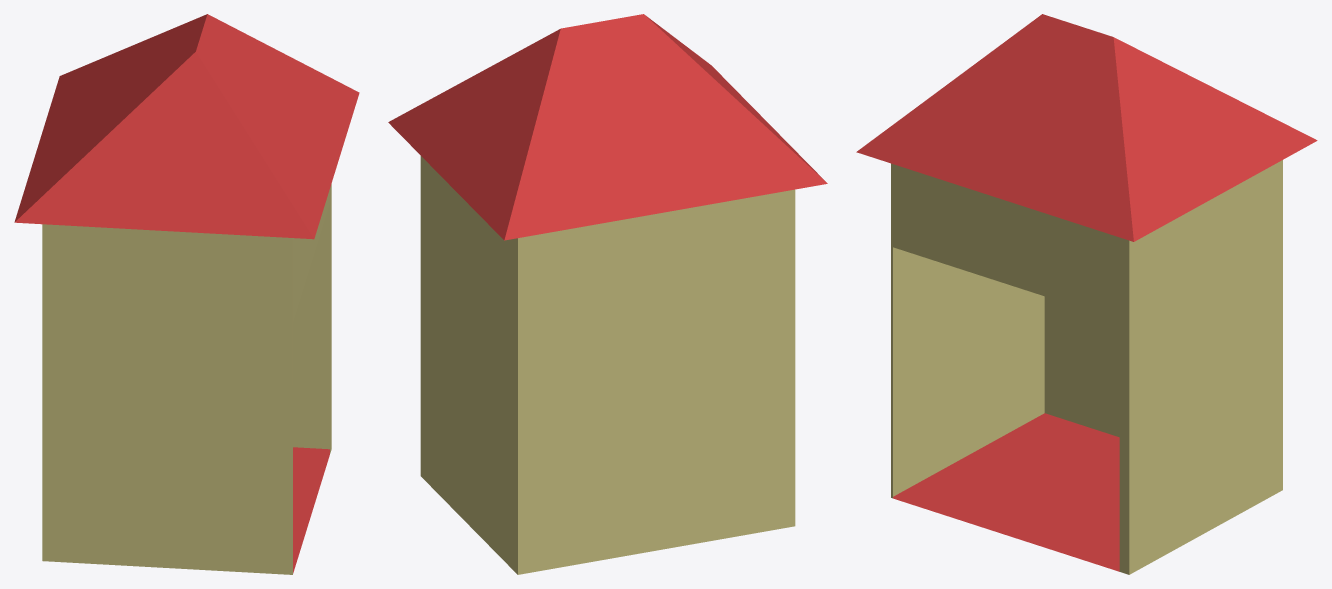
The picture shows the model from 3 angles, left to right: view 1: azimuth 30°, elevation 25°; view 2: azimuth 150°, elevation 25°; view 3: azimuth 270°, elevation 25°; orthographic projection.
Visible parts, largest first — view 1: group_5, group_3, group_4, group_6; view 2: group_5, group_3, group_4; view 3: group_5, group_3, group_6, group_4.
Boxes of the visible parts, left/top/right/bottom form: group_5: left=42, top=184, right=331, bottom=574; group_3: left=42, top=14, right=359, bottom=238; group_4: left=14, top=77, right=343, bottom=239; group_6: left=293, top=447, right=329, bottom=573; group_5: left=420, top=58, right=795, bottom=574; group_3: left=389, top=14, right=812, bottom=240; group_4: left=388, top=57, right=827, bottom=240; group_5: left=891, top=160, right=1282, bottom=574; group_3: left=857, top=14, right=1317, bottom=241; group_6: left=893, top=413, right=1119, bottom=571; group_4: left=856, top=126, right=1230, bottom=241.
Size of the model in its own units: 13.6 by 13.86 by 15.68.
